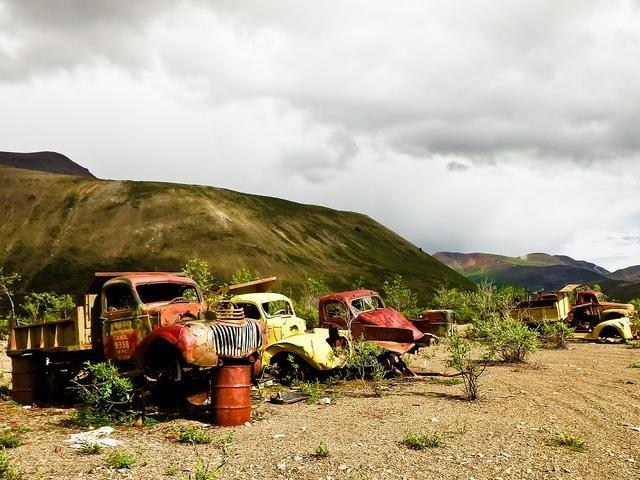car: (318, 290, 424, 341), (230, 292, 308, 346)
truck: (12, 274, 272, 408), (231, 291, 354, 370), (510, 283, 636, 340), (319, 290, 426, 357), (570, 290, 638, 336)
